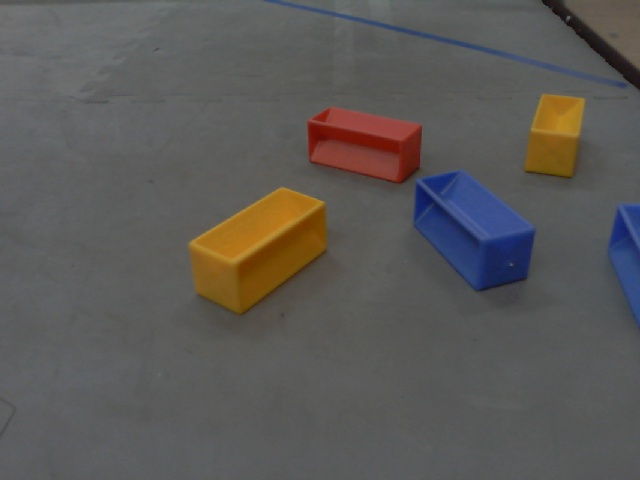BlueSample: (410, 162, 534, 295), (607, 201, 640, 329)
RedSample: (302, 102, 426, 185)
YellowSample: (184, 184, 332, 314), (526, 91, 588, 178)
